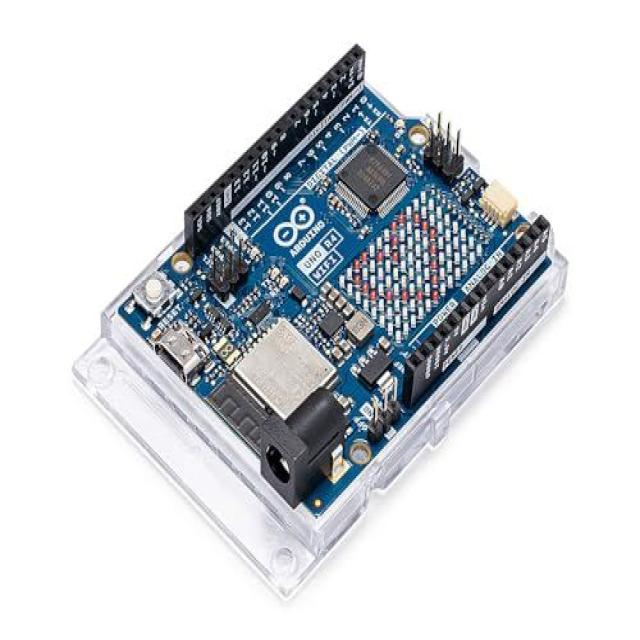Arduino: (36, 27, 606, 615)
